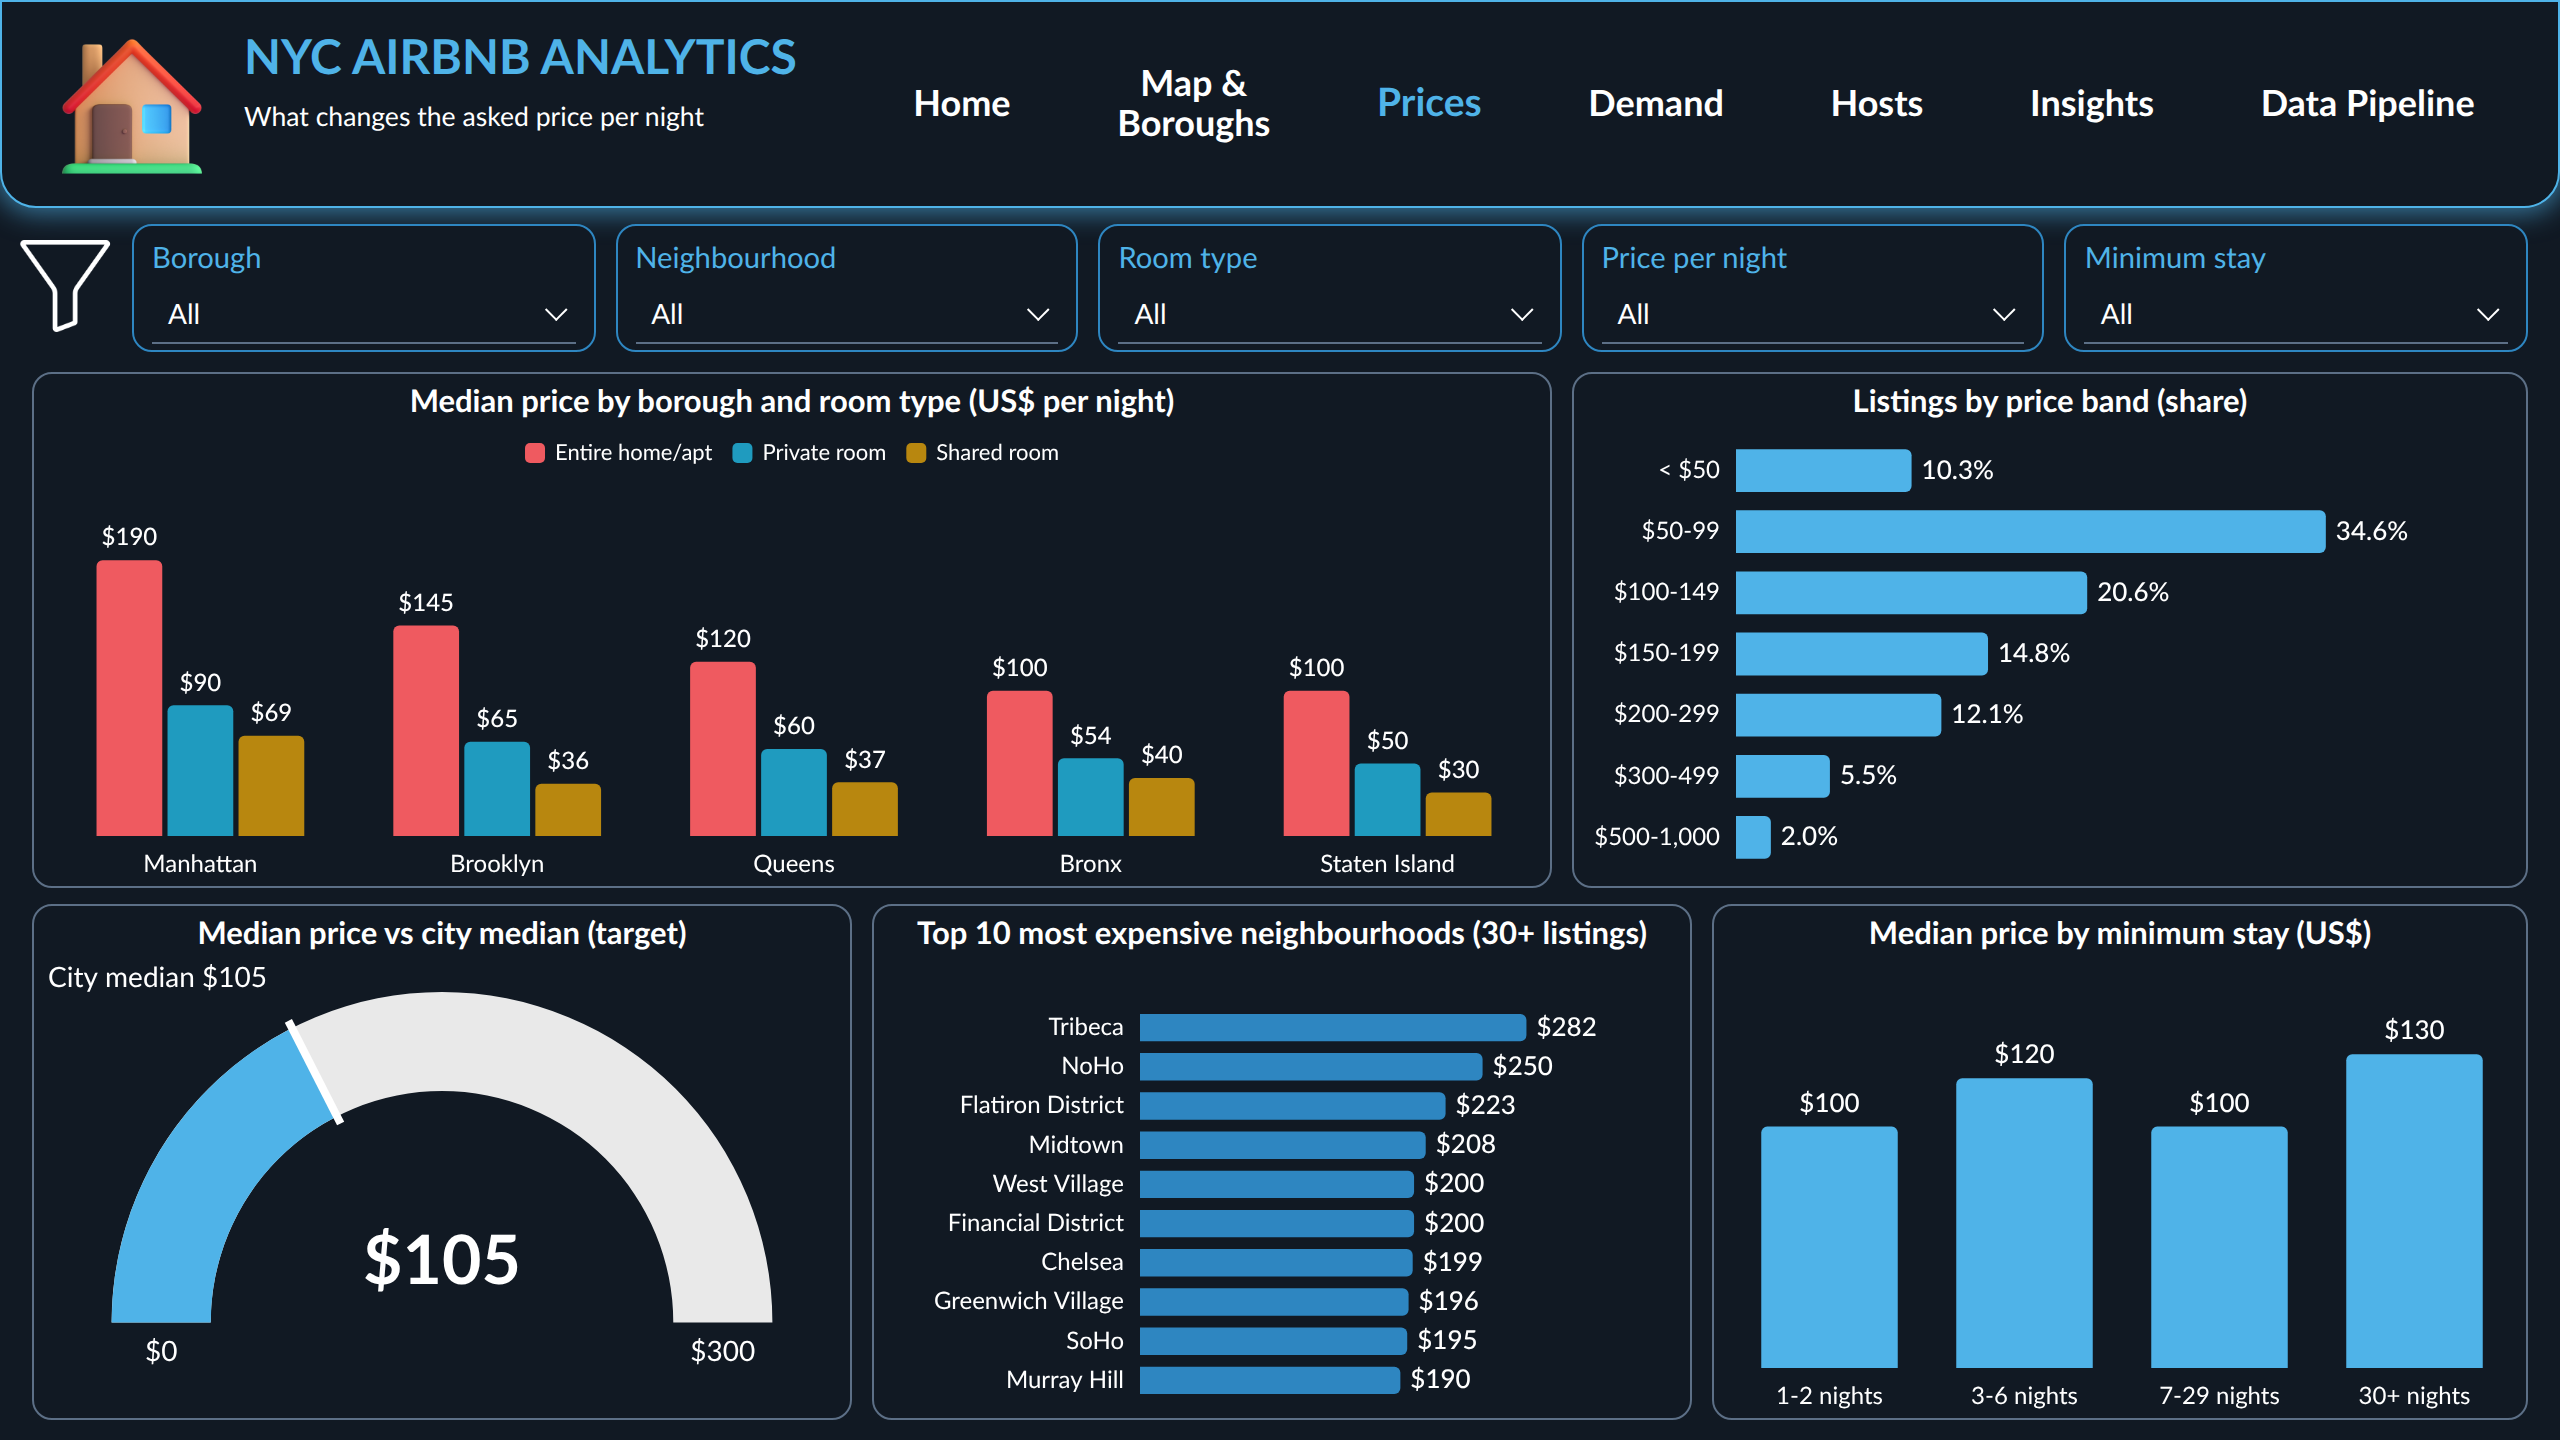

What the dashboard file says about the page in this screenshot:
{"tool":"powerbi","page":{"name":"Prices","canvas":[1280,720],"ordinal":2},"visuals":[{"type":"shape","box":[0,0,1280,104],"z":1000},{"type":"image","box":[18,12,96,80],"z":2000},{"type":"textbox","box":[122,14,300,76],"z":3000},{"type":"pageNavigator","box":[430,26,834,52],"z":4000},{"type":"image","box":[10,120,46,46],"z":5000},{"type":"shape","box":[66,112,231.6,64],"z":6000},{"type":"slicer","fields":{"Values":["Listings.Borough"]},"box":[70,114,223.6,60],"z":7000},{"type":"shape","box":[307.6,112,231.6,64],"z":8000},{"type":"slicer","fields":{"Values":["Listings.Neighbourhood"]},"box":[311.6,114,223.6,60],"z":9000},{"type":"shape","box":[549.2,112,231.6,64],"z":10000},{"type":"slicer","fields":{"Values":["Listings.Room Type"]},"box":[553.2,114,223.6,60],"z":11000},{"type":"shape","box":[790.8,112,231.6,64],"z":12000},{"type":"slicer","fields":{"Values":["Listings.Price Band"]},"box":[794.8,114,223.6,60],"z":13000},{"type":"shape","box":[1032.4,112,231.6,64],"z":14000},{"type":"slicer","fields":{"Values":["Listings.Minimum Stay"]},"box":[1036.4,114,223.6,60],"z":15000},{"type":"shape","box":[16,186,760,258],"z":16000},{"type":"clusteredColumnChart","title":"Median price by borough and room type (US$ per night)","fields":{"Category":["Listings.Borough"],"Series":["Listings.Room Type"],"Y":["Listings.Median Price"]},"box":[20,190,752,250],"z":17000},{"type":"shape","box":[786,186,478,258],"z":18000},{"type":"barChart","title":"Listings by price band (share)","fields":{"Category":["Listings.Price Band"],"Y":["Listings.Listing Share"]},"box":[790,190,470,250],"z":19000},{"type":"shape","box":[16,452,410,258],"z":20000},{"type":"gauge","title":"Median price vs city median (target)","fields":{"TargetValue":["Listings.City Median Price"],"Y":["Listings.Median Price"]},"box":[20,456,402,250],"z":21000},{"type":"shape","box":[436,452,410,258],"z":22000},{"type":"barChart","title":"Top 10 most expensive neighbourhoods (30+ listings)","fields":{"Category":["Listings.Neighbourhood"],"Y":["Listings.Median Price (30+ listings)"]},"box":[440,456,402,250],"z":23000},{"type":"shape","box":[856,452,408,258],"z":24000},{"type":"columnChart","title":"Median price by minimum stay (US$)","fields":{"Category":["Listings.Minimum Stay"],"Y":["Listings.Median Price"]},"box":[860,456,400,250],"z":25000}]}

Visuals, with their boxes in screenshot pixels (x1, y1, x2, y2), scaled from the page's 1280x720 canvas onto the 2560x1440 screenshot:
shape: 0:0:2559:208
image: 36:24:228:184
textbox: 244:28:844:180
pageNavigator: 860:52:2528:156
image: 20:240:112:332
shape: 132:224:595:352
slicer - Listings.Borough: 140:228:587:348
shape: 615:224:1078:352
slicer - Listings.Neighbourhood: 623:228:1070:348
shape: 1098:224:1562:352
slicer - Listings.Room Type: 1106:228:1554:348
shape: 1582:224:2045:352
slicer - Listings.Price Band: 1590:228:2037:348
shape: 2065:224:2528:352
slicer - Listings.Minimum Stay: 2073:228:2520:348
shape: 32:372:1552:888
"Median price by borough and room type (US$ per night)" clusteredColumnChart: 40:380:1544:880
shape: 1572:372:2528:888
"Listings by price band (share)" barChart: 1580:380:2520:880
shape: 32:904:852:1420
"Median price vs city median (target)" gauge: 40:912:844:1412
shape: 872:904:1692:1420
"Top 10 most expensive neighbourhoods (30+ listings)" barChart: 880:912:1684:1412
shape: 1712:904:2528:1420
"Median price by minimum stay (US$)" columnChart: 1720:912:2520:1412
